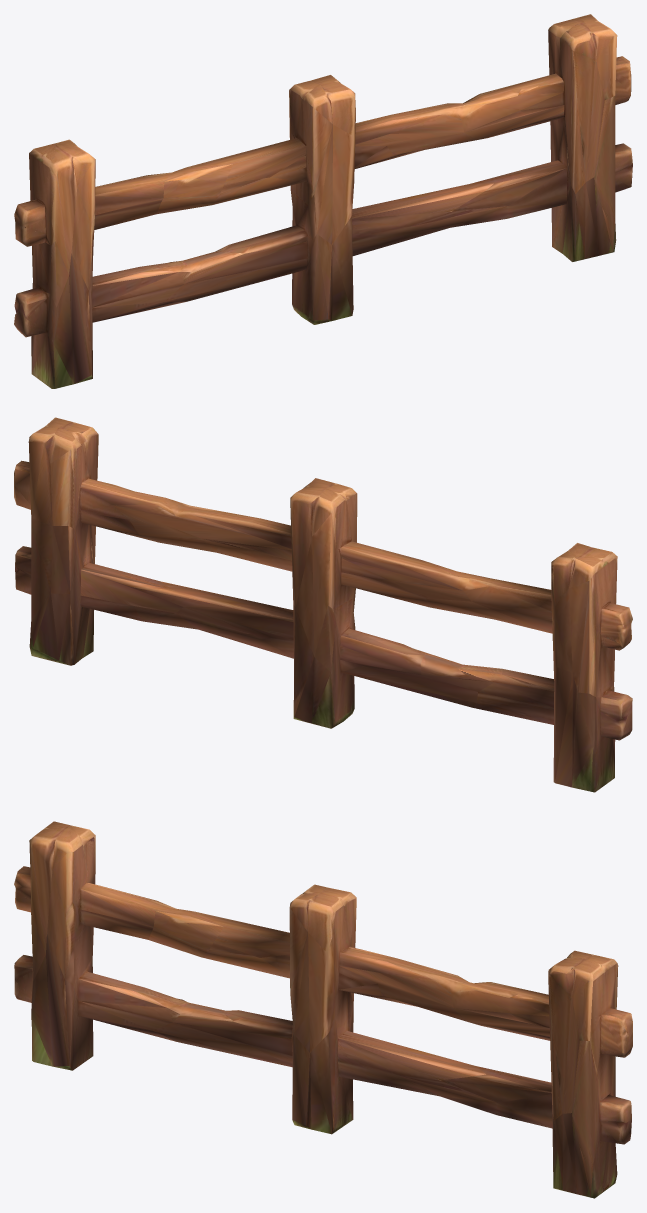
File: fence.glb
The picture shows the model from 3 angles, top to bottom: view 1: azimuth 30°, elevation 25°; view 2: azimuth 150°, elevation 25°; view 3: azimuth 330°, elevation 25°; orthographic projection.
Visible parts, largest first — view 1: fence; view 2: fence; view 3: fence.
Part boxes in pixels (x1,y1,x2,y2): fence: (14, 14, 632, 388); fence: (14, 417, 632, 792); fence: (14, 821, 632, 1198).
Size of the model in its own units: 2.4 by 0.8589 by 0.1788.
1 material, 1 textured.
